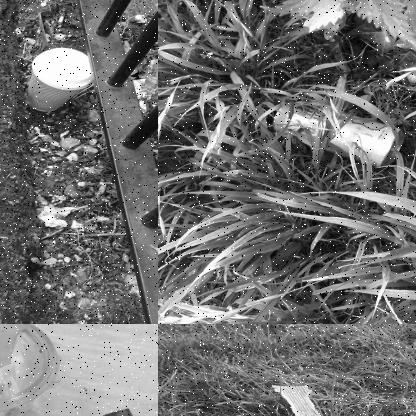cardboard: (268, 382, 319, 415)
plastic: (267, 101, 409, 171), (0, 324, 59, 415), (24, 43, 91, 113)
